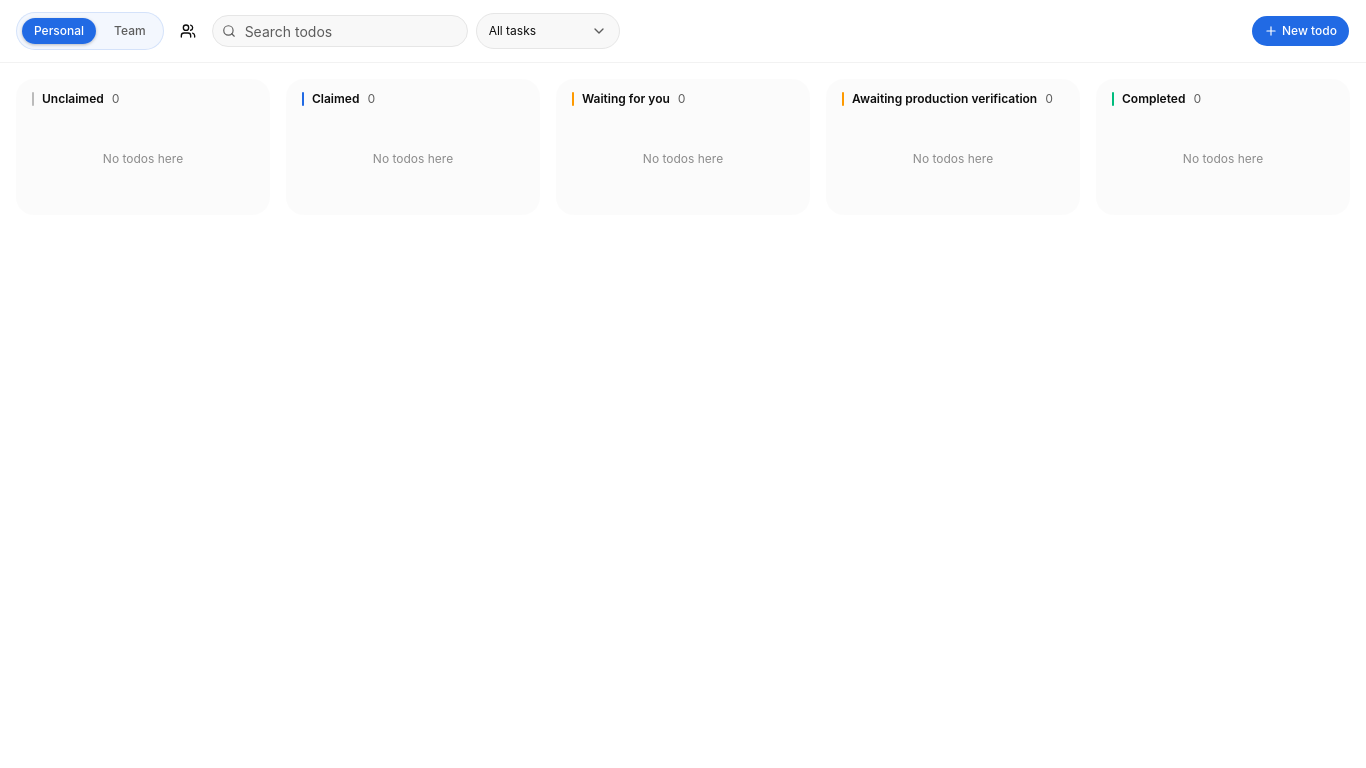
independent todo board › creates request identities when native randomUUID is absent on HTTP origins
The image size is (1366, 768).
Click the button "New todo" at (1300, 31), box [1251,15,1350,47]
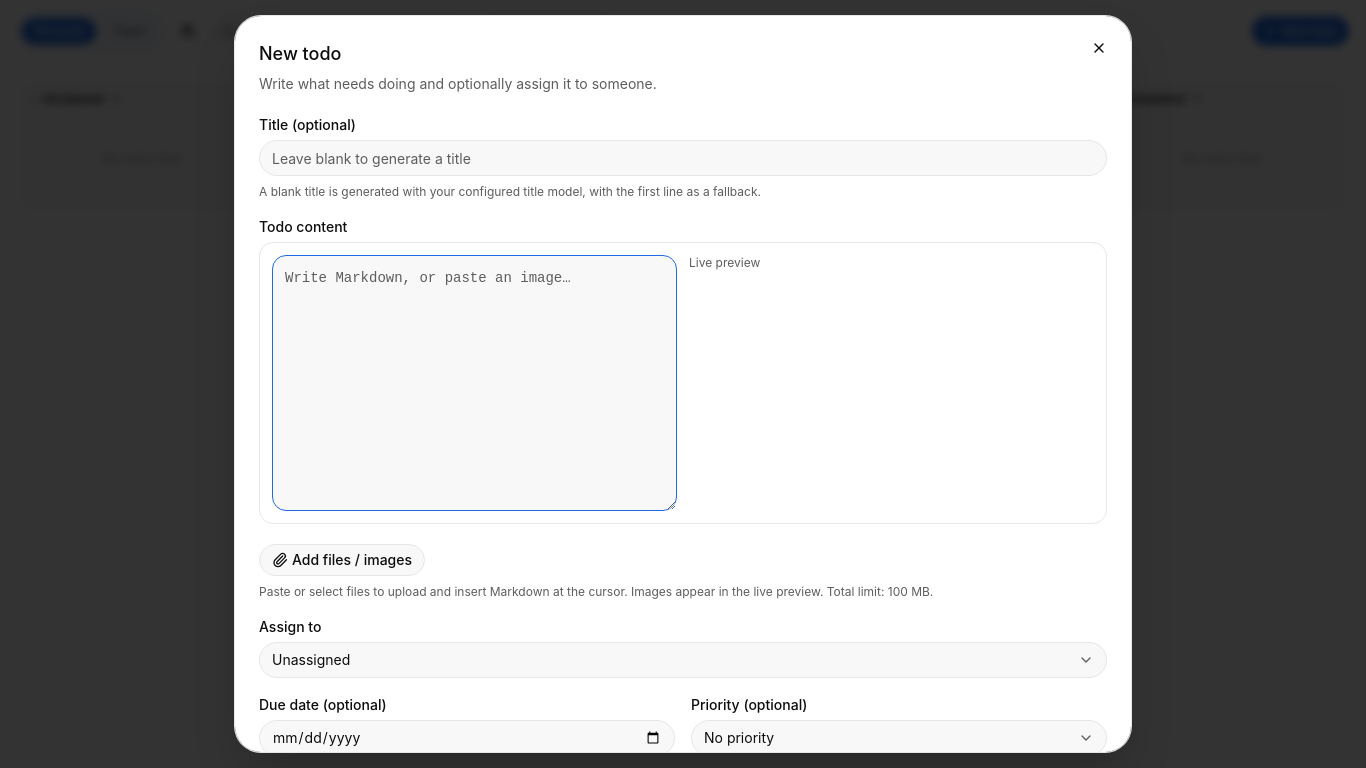
Type "Works over HTTP" into the text box labelled "Todo content" at (474, 383), box [272,255,677,511]
(page scrolled)
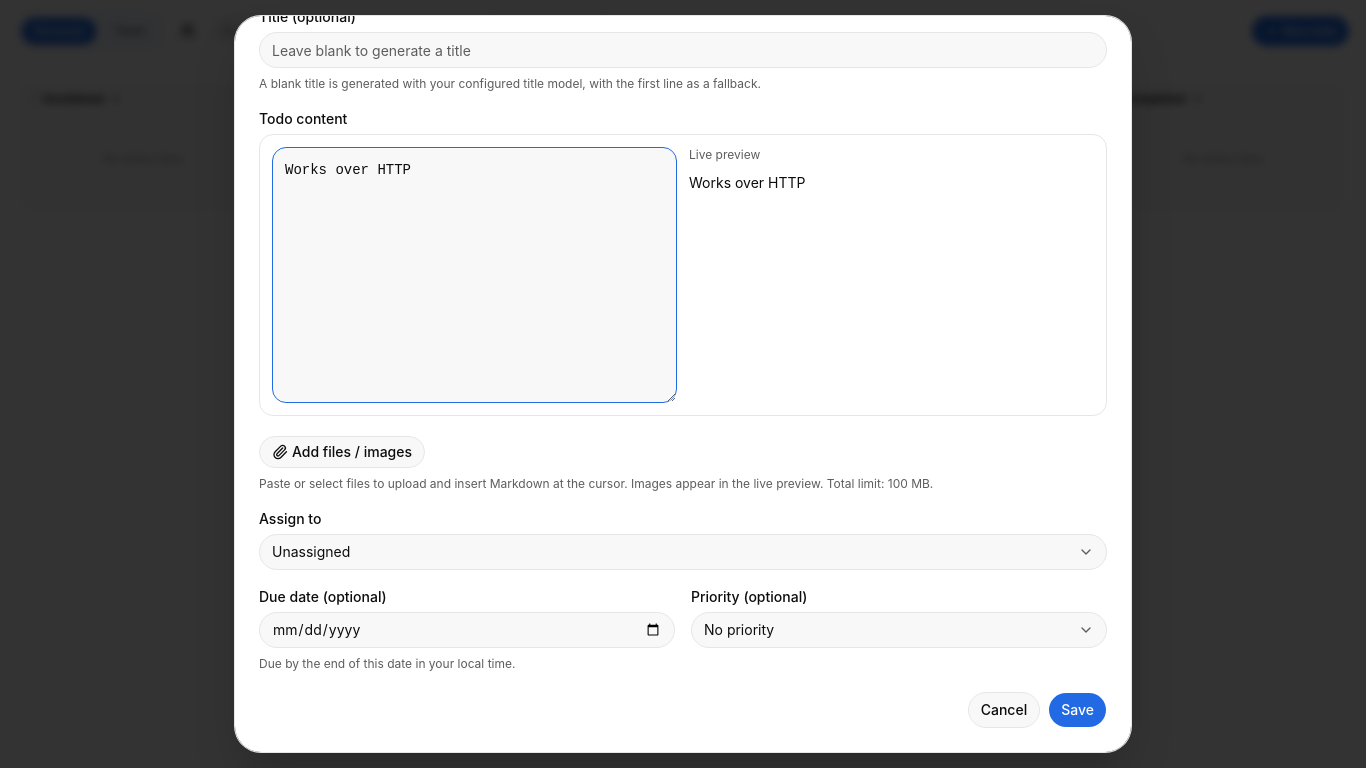
Click the button "Save" at (1078, 710), box [1048,692,1107,728]
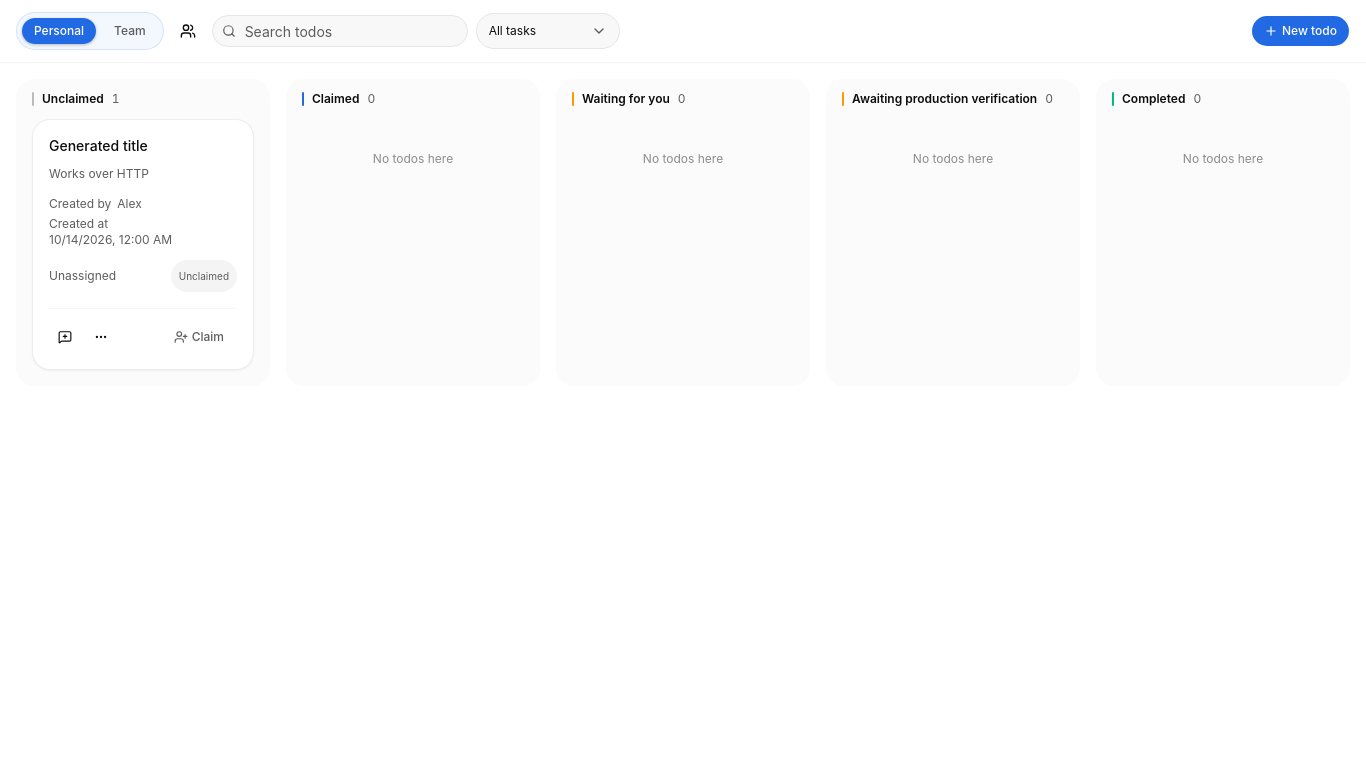
Now the heading "Generated title" is shown, box [49,137,148,154]
Click the button named "Teams" at (188, 31), box [172,15,204,47]
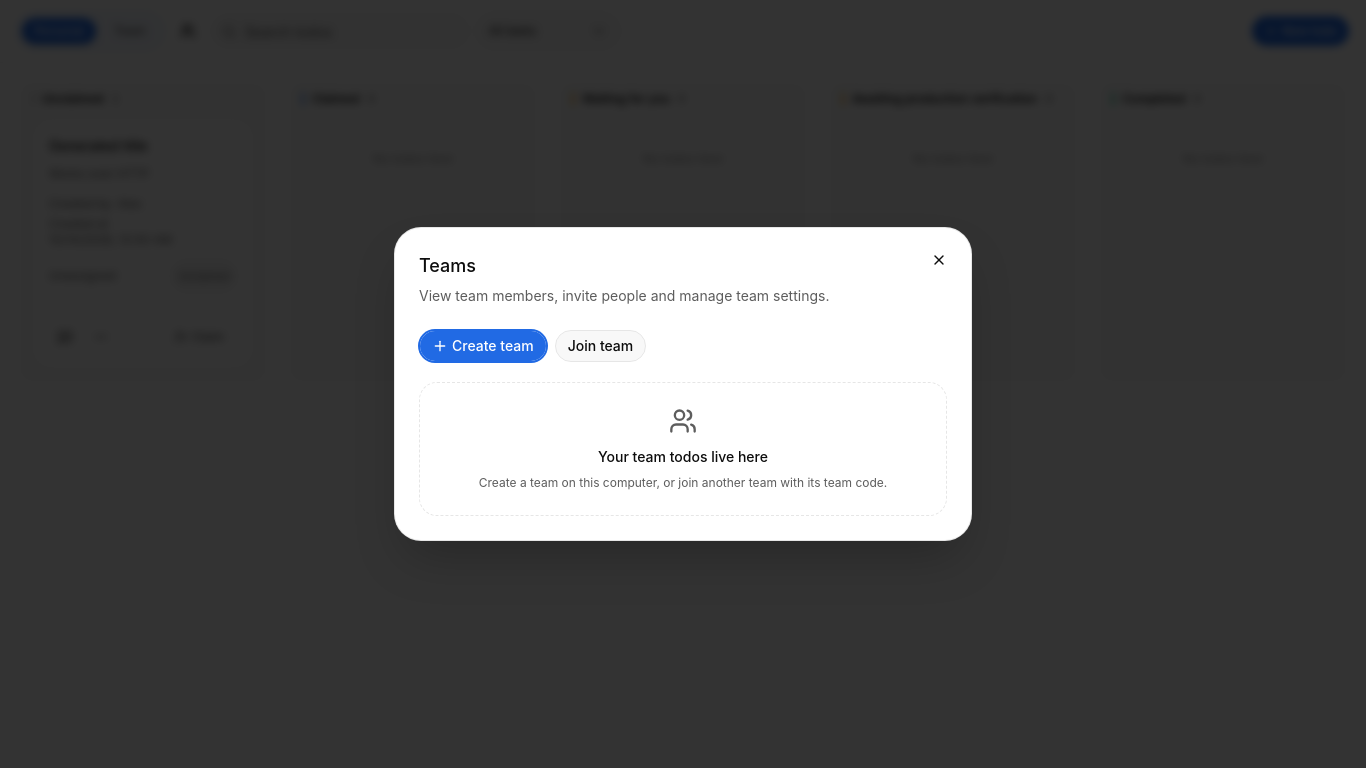
Click the button "Create team" at (483, 346), box [419,330,547,362]
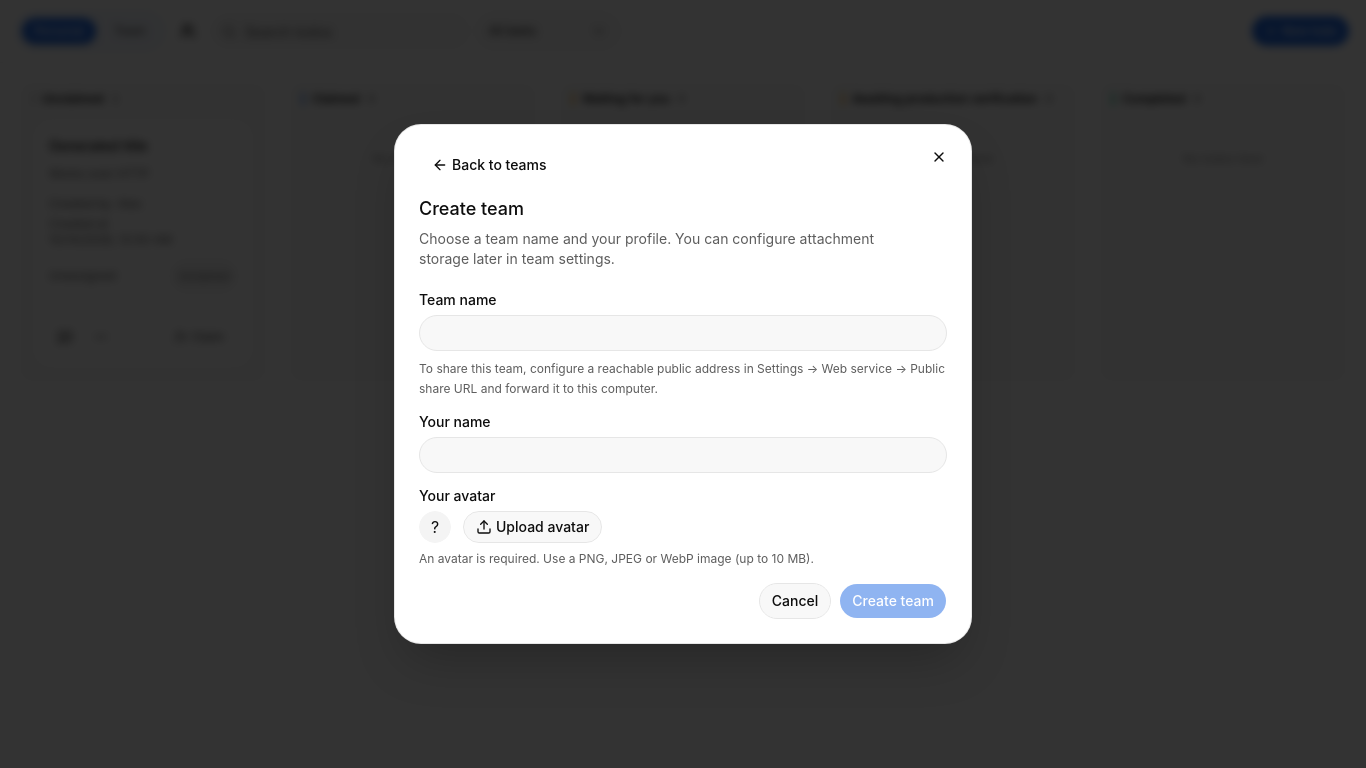
Now the field labelled "Team name" is shown, box [419,315,947,351]
